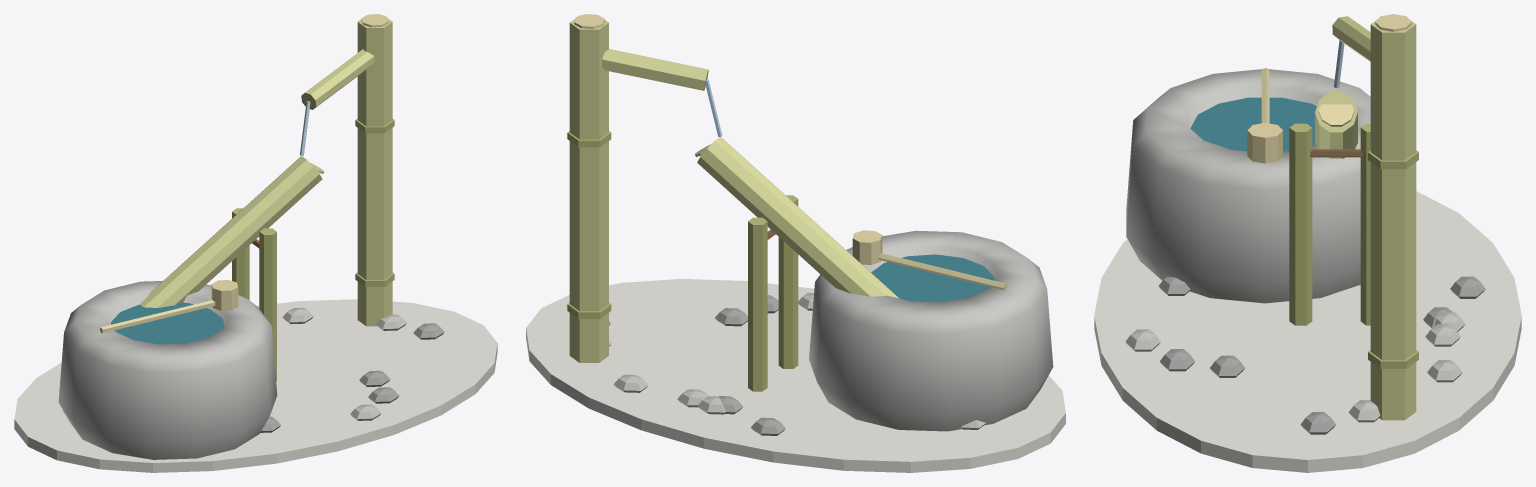
File: jp_shishi_odoshi.glb
3 renders of one model, left to right at view 1: azimuth 30°, elevation 25°; view 2: azimuth 150°, elevation 25°; view 3: azimuth 270°, elevation 25°, orthographic. The views are drawn at different scales.
Visible parts, largest first — view 1: jp_shishi_odoshi; view 2: jp_shishi_odoshi; view 3: jp_shishi_odoshi.
Part boxes in pixels (x1,y1,x2,y2): jp_shishi_odoshi: (14, 14, 497, 472); jp_shishi_odoshi: (526, 14, 1065, 472); jp_shishi_odoshi: (1094, 14, 1521, 472).
Bounding box in the file's own units: 0.96 × 0.624 × 0.6.
